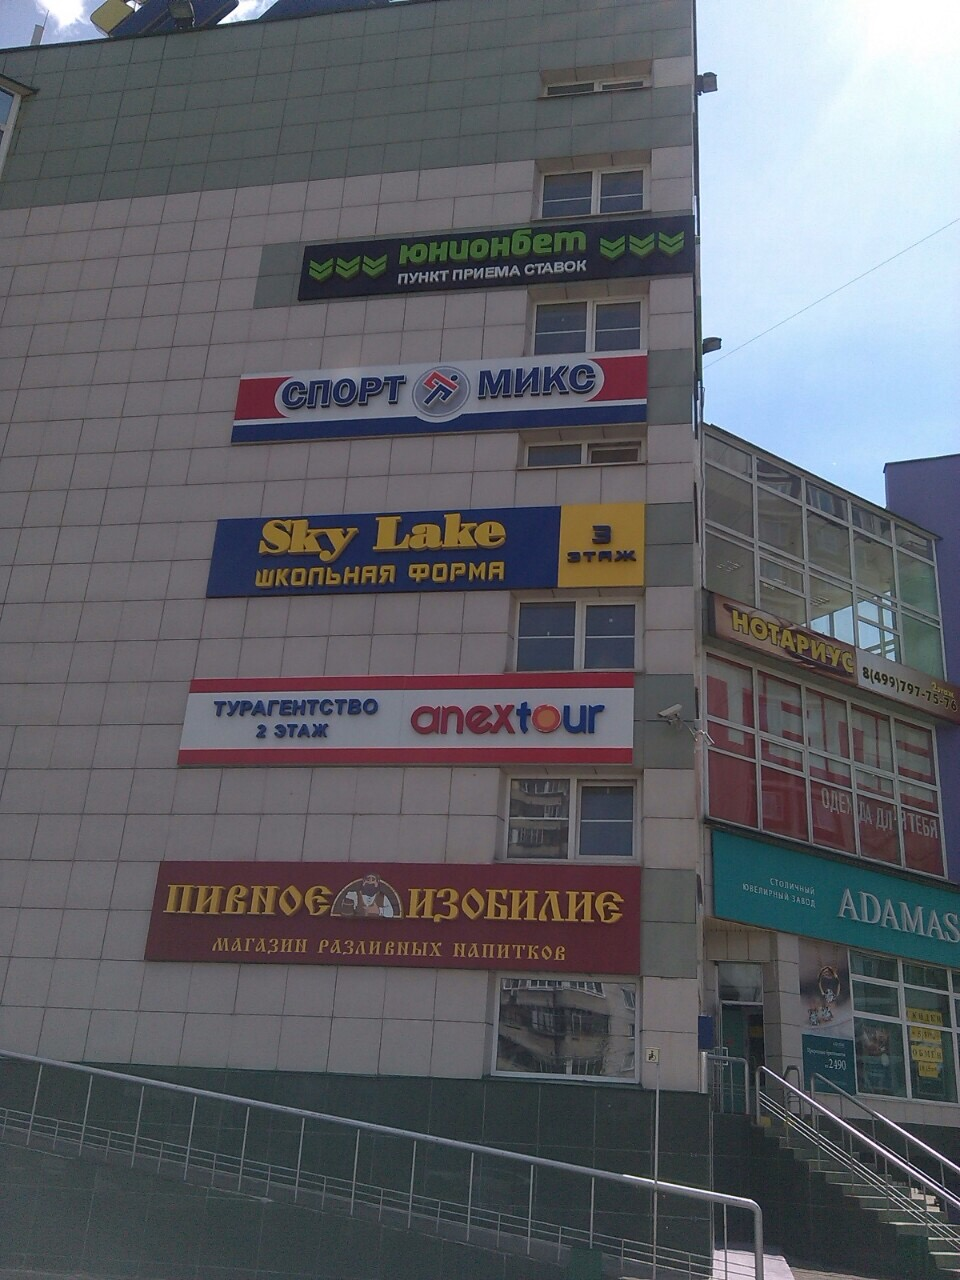signboard: (136, 856, 643, 983), (196, 499, 648, 598), (172, 671, 635, 767), (289, 210, 698, 303), (230, 348, 648, 428)
